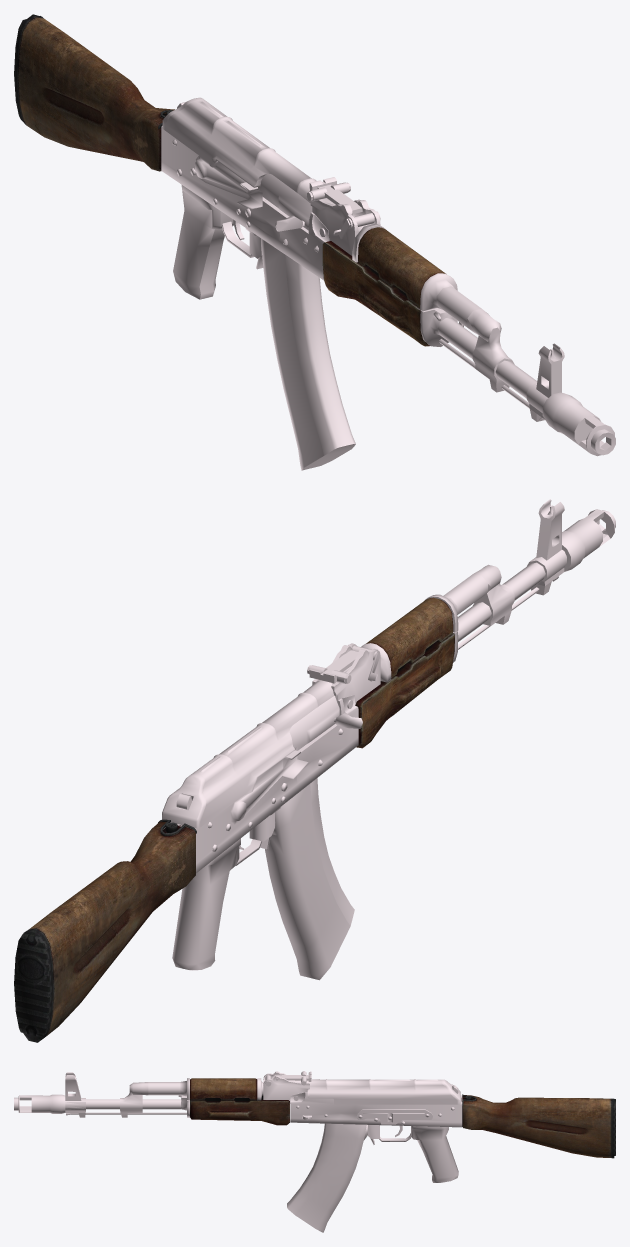
3 views of the same model, one above another, from view 1: azimuth 30°, elevation 25°; view 2: azimuth 150°, elevation 25°; view 3: azimuth 270°, elevation 25° (orthographic). The views are drawn at different scales.
Visible parts, largest first — view 1: ak74_2, ak74_1; view 2: ak74_2, ak74_1; view 3: ak74_2, ak74_1.
Boxes of the visible parts, x1,y1,x2,y2 form: ak74_2: [161, 97, 615, 470]; ak74_1: [14, 14, 445, 346]; ak74_2: [162, 499, 615, 980]; ak74_1: [14, 597, 454, 1042]; ak74_2: [14, 1071, 462, 1232]; ak74_1: [190, 1078, 615, 1158].
Bounding box in the file's own units: 42.68 × 178 × 621.
